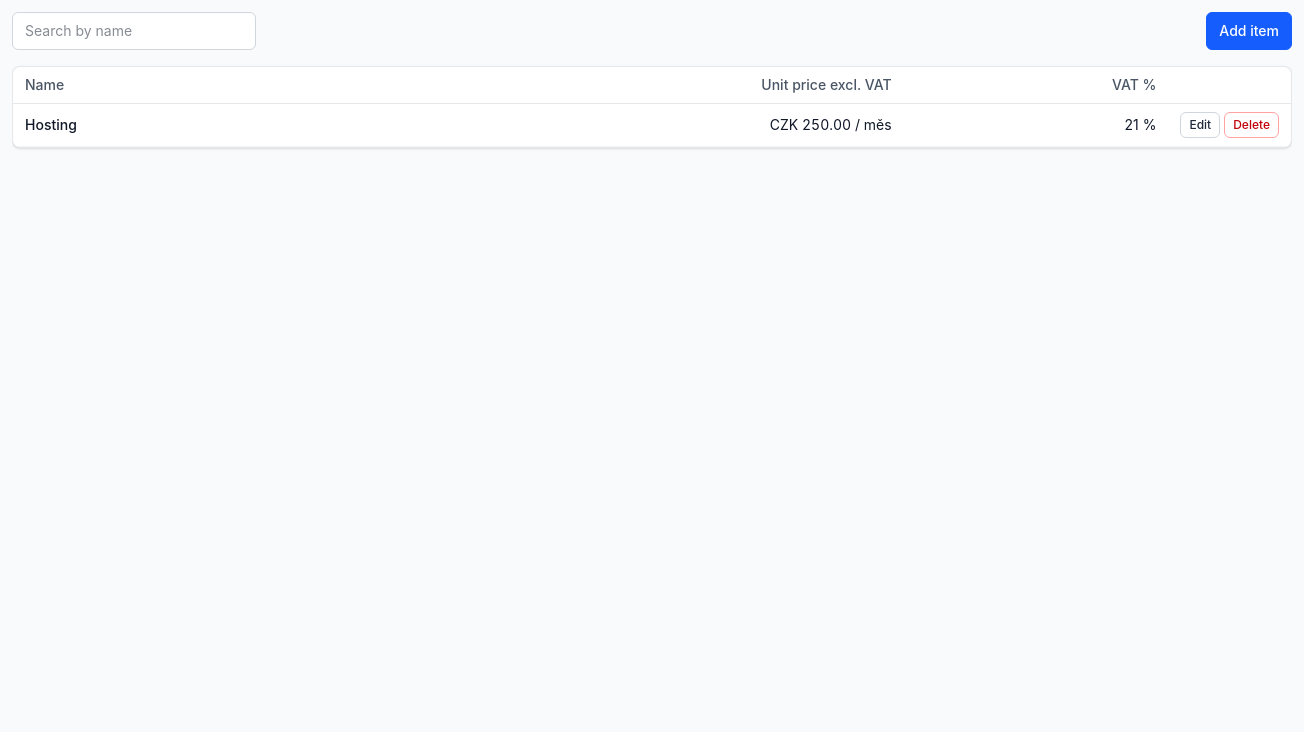
Test: catalog tabs › creates an item with the default VAT rate and reloads the list
This screenshot has width=1304, height=732.
Expected: the number of rows with test id "item-row" is 1, [13,104,1291,146]
Click the button with test id "add-item".
click(1249, 31)  # box [1206,12,1292,50]
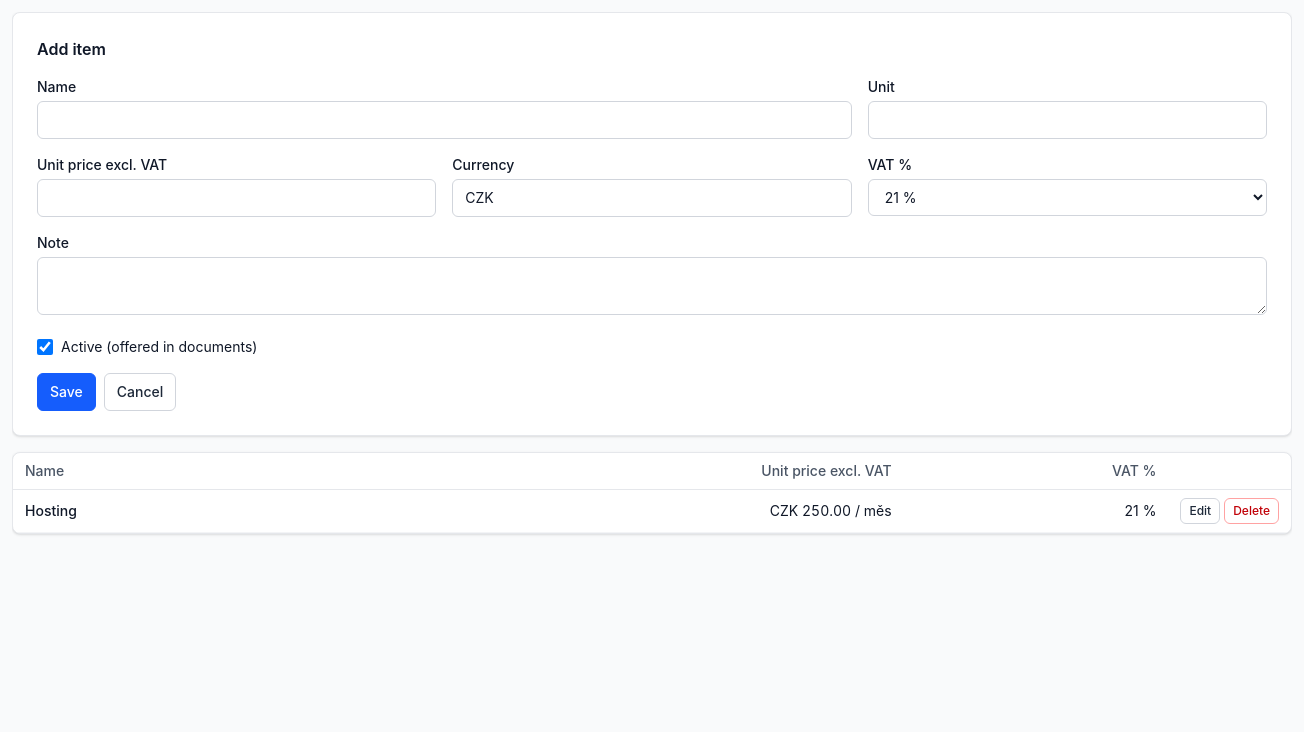
Type "Support" into the field with id "item-name".
click(444, 120); type("Support")  # box [37,101,852,139]
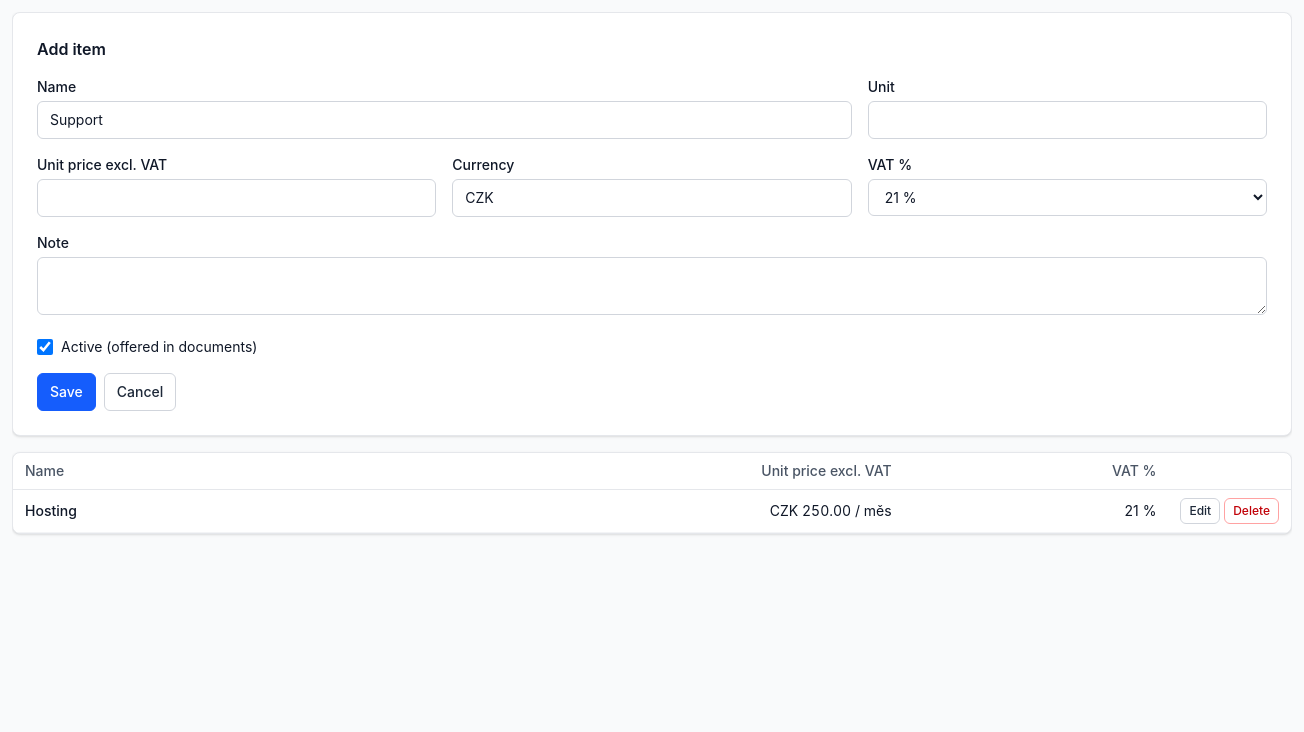
Type "900,5" into the field with id "item-unitPrice".
click(237, 198); type("900,5")  # box [37,179,436,217]
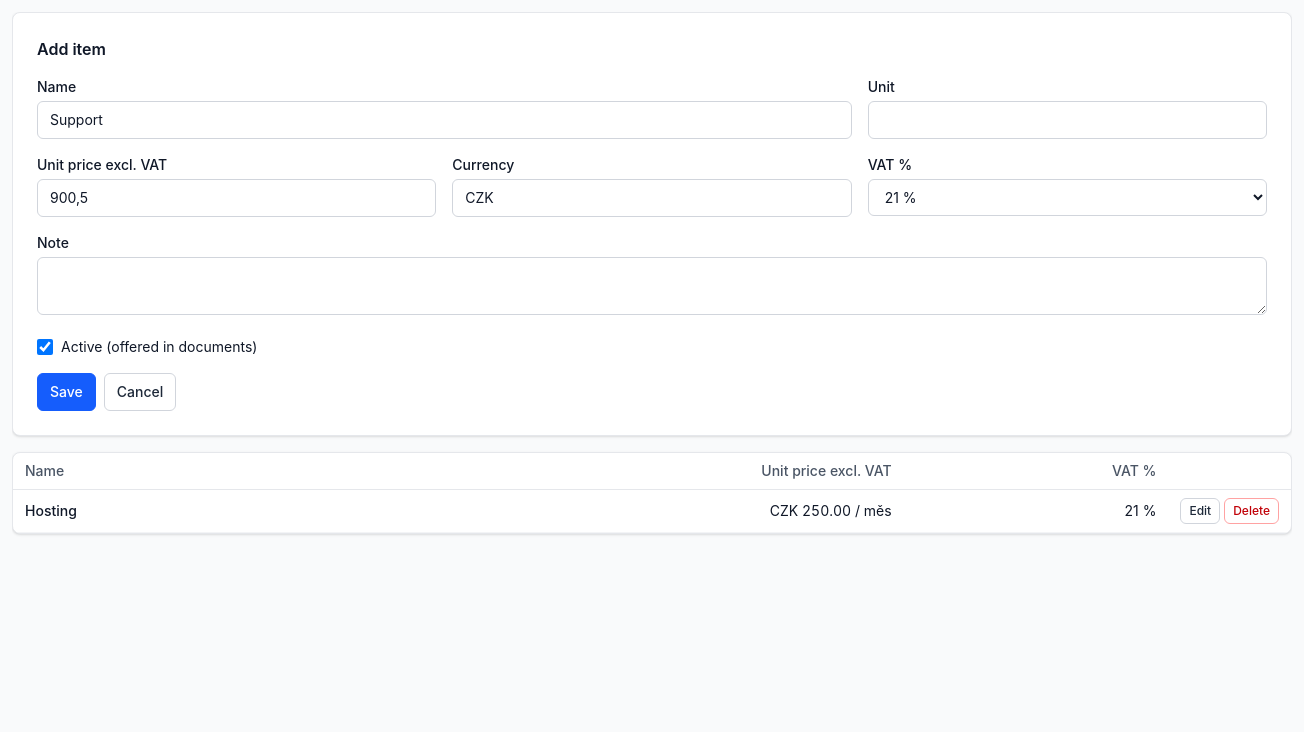
Submit the form with test id "item-form", box [12,12,1292,436]
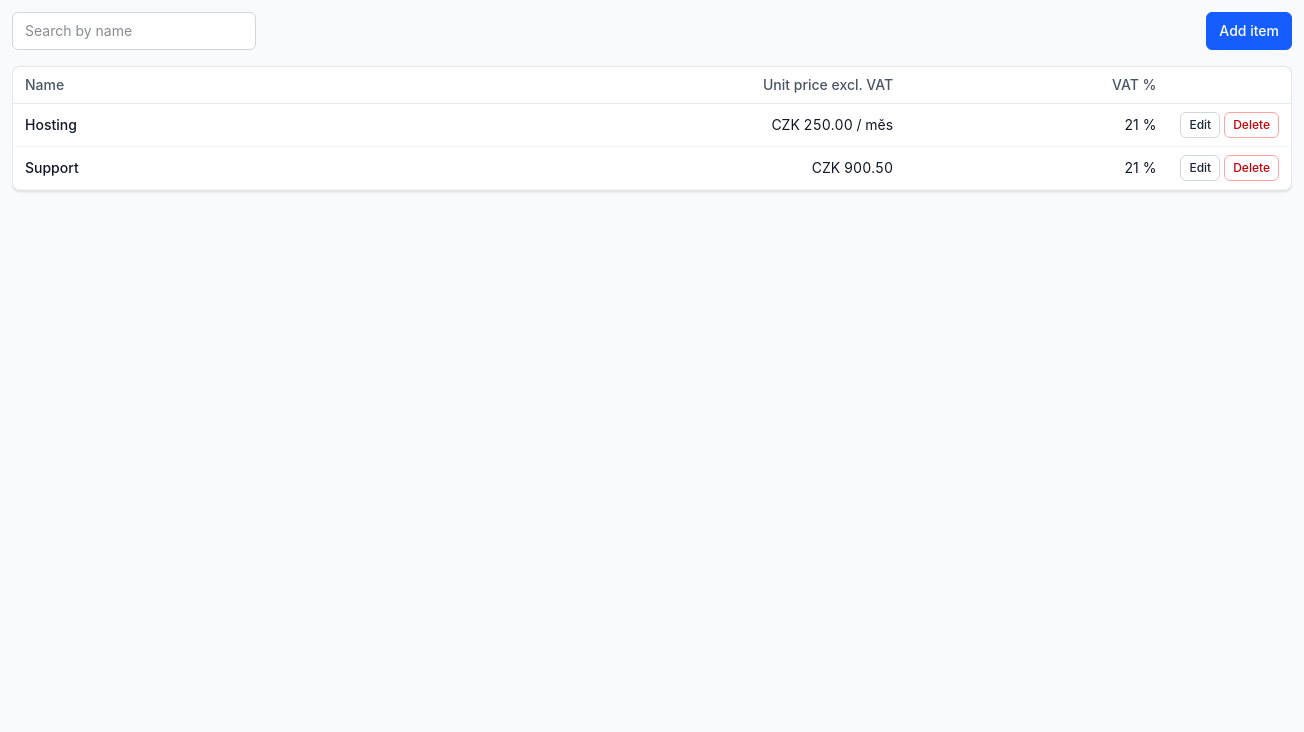
Expected: the number of rows with test id "item-row" is 2, [13,104,1291,146]; [13,146,1291,190]
